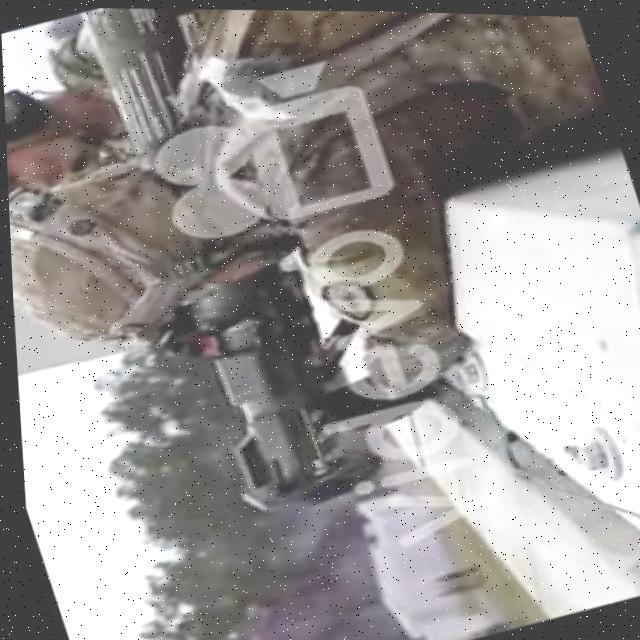rocket: (70, 2, 390, 529)
